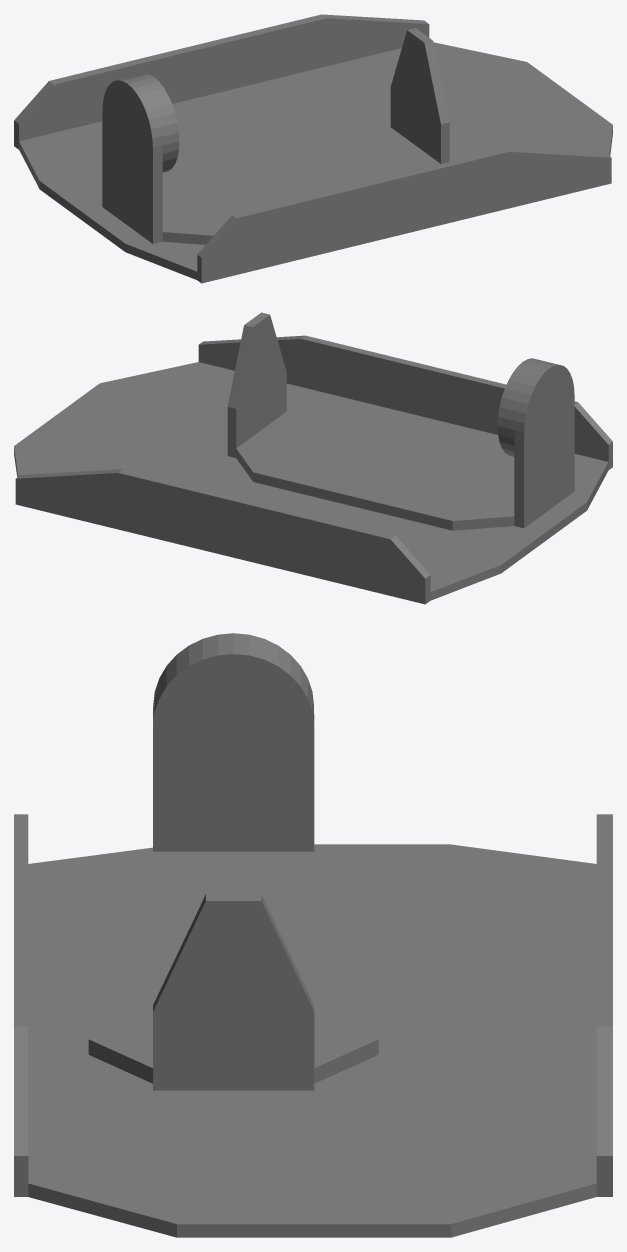
Rendered from footprint_L.dae.
3 views of the same model, one above another, from view 1: azimuth 30°, elevation 25°; view 2: azimuth 150°, elevation 25°; view 3: azimuth 270°, elevation 25° (orthographic). The views are drawn at different scales.
Parts seen in each view (by area): view 1: footprint_L; view 2: footprint_L; view 3: footprint_L.
Boxes of the visible parts, x1=… form: footprint_L: x1=14, y1=14, x2=612, y2=283; footprint_L: x1=14, y1=312, x2=612, y2=604; footprint_L: x1=14, y1=633, x2=612, y2=1237.
Bounding box in the file's own units: 0.09 × 0.06 × 0.0266.
Materials: 1 (1 with a texture image).
